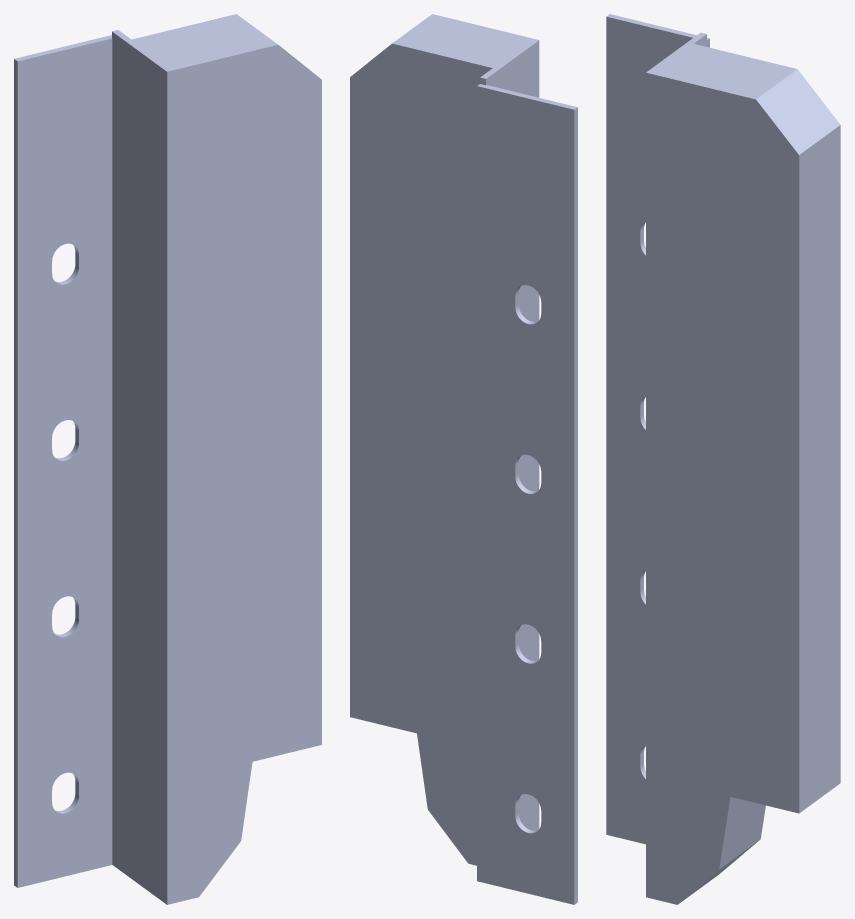
The picture shows the model from 3 angles, left to right: view 1: azimuth 30°, elevation 25°; view 2: azimuth 150°, elevation 25°; view 3: azimuth 330°, elevation 25°; orthographic projection. The views are drawn at different scales.
Visible parts, largest first — view 1: 43570762; view 2: 43570762; view 3: 43570762.
Part boxes in pixels (<box>): 43570762: <box>14,14,321,904</box>; 43570762: <box>350,14,577,904</box>; 43570762: <box>606,14,840,904</box>.
Bounding box in the file's own units: 0.0474 × 0.1512 × 0.0192.
